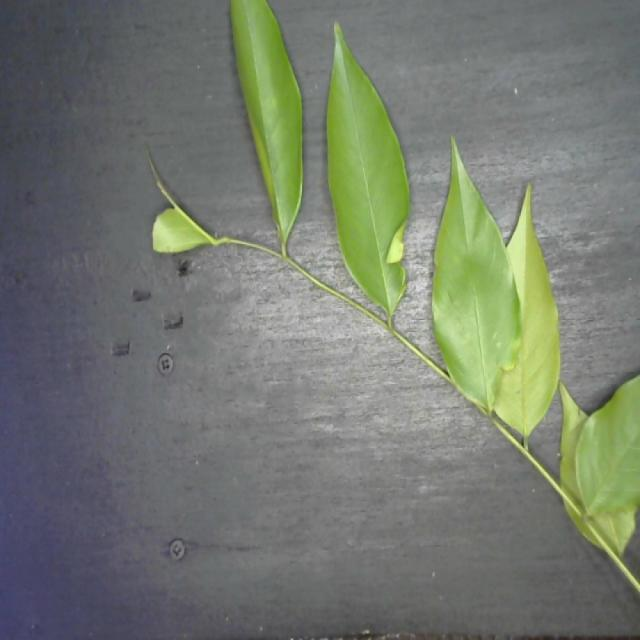biodegradable: (144, 0, 640, 607)
